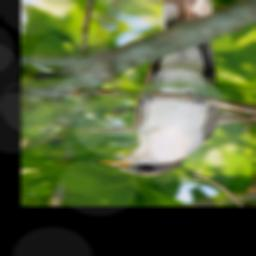Cuckoo: (91, 0, 223, 178)
